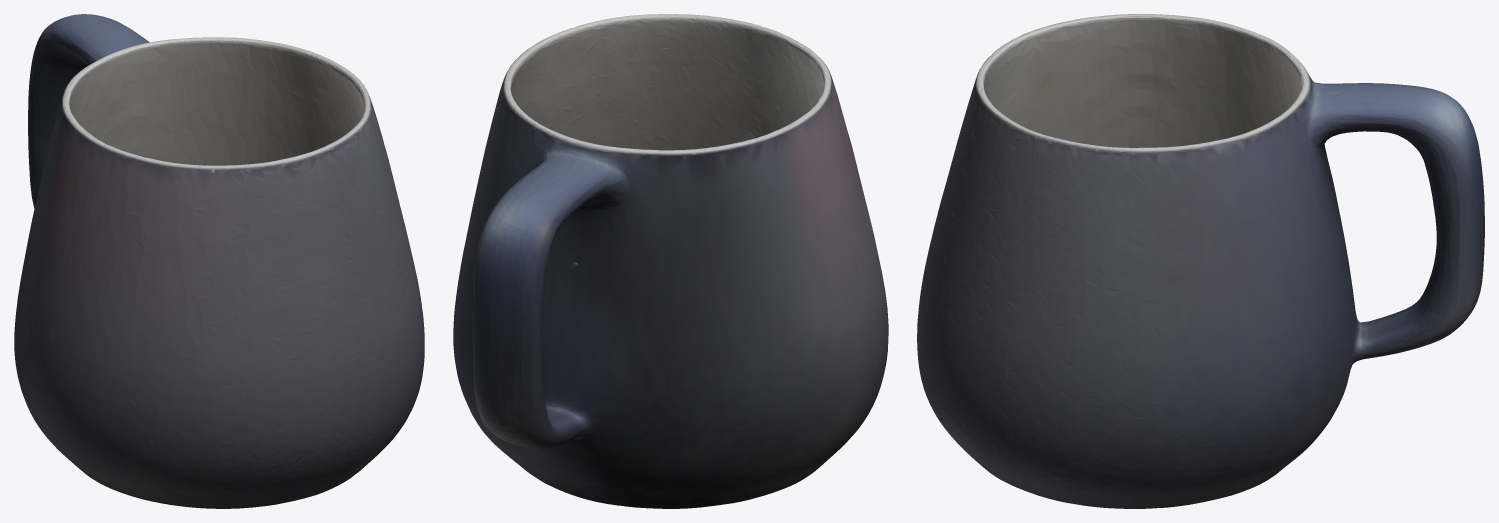
The model's file is kitchen-mug.glb.
3 renders of one model, left to right at view 1: azimuth 30°, elevation 25°; view 2: azimuth 150°, elevation 25°; view 3: azimuth 270°, elevation 25°, orthographic. The views are drawn at different scales.
Parts seen in each view (by area): view 1: geometry_0; view 2: geometry_0; view 3: geometry_0.
Boxes of the visible parts, x1,y1,x2,y2 form: geometry_0: (14, 14, 424, 508); geometry_0: (453, 14, 888, 508); geometry_0: (917, 14, 1484, 508).
Bounding box in the file's own units: 0.7598 × 0.7016 × 0.9993.
